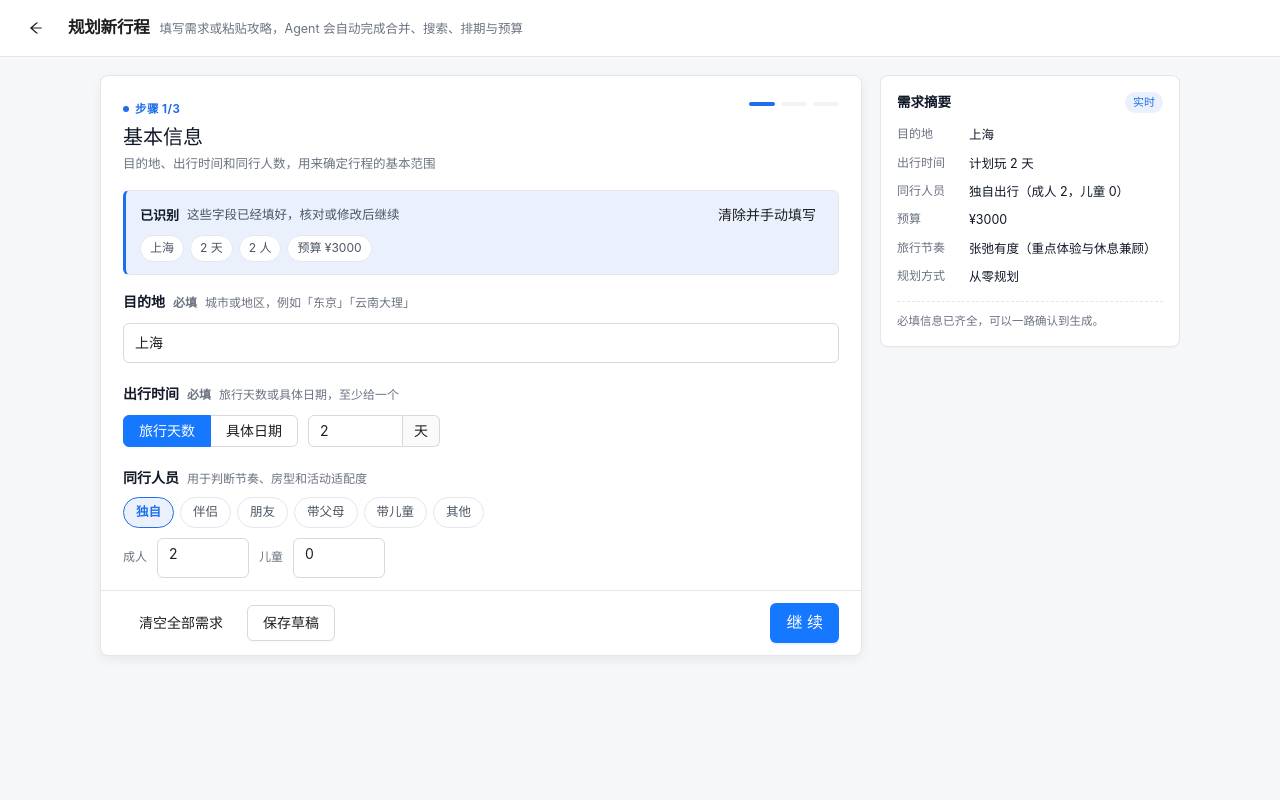
Test: Planner · 三步流程与门禁 › 第 3 步展示结构化摘要
This screenshot has width=1280, height=800.
What coordinates should you click on to do the following:
click the button with test id "planner-next"
I would click on:
 (805, 623)
Its box is [770, 603, 839, 643].
(page scrolled)
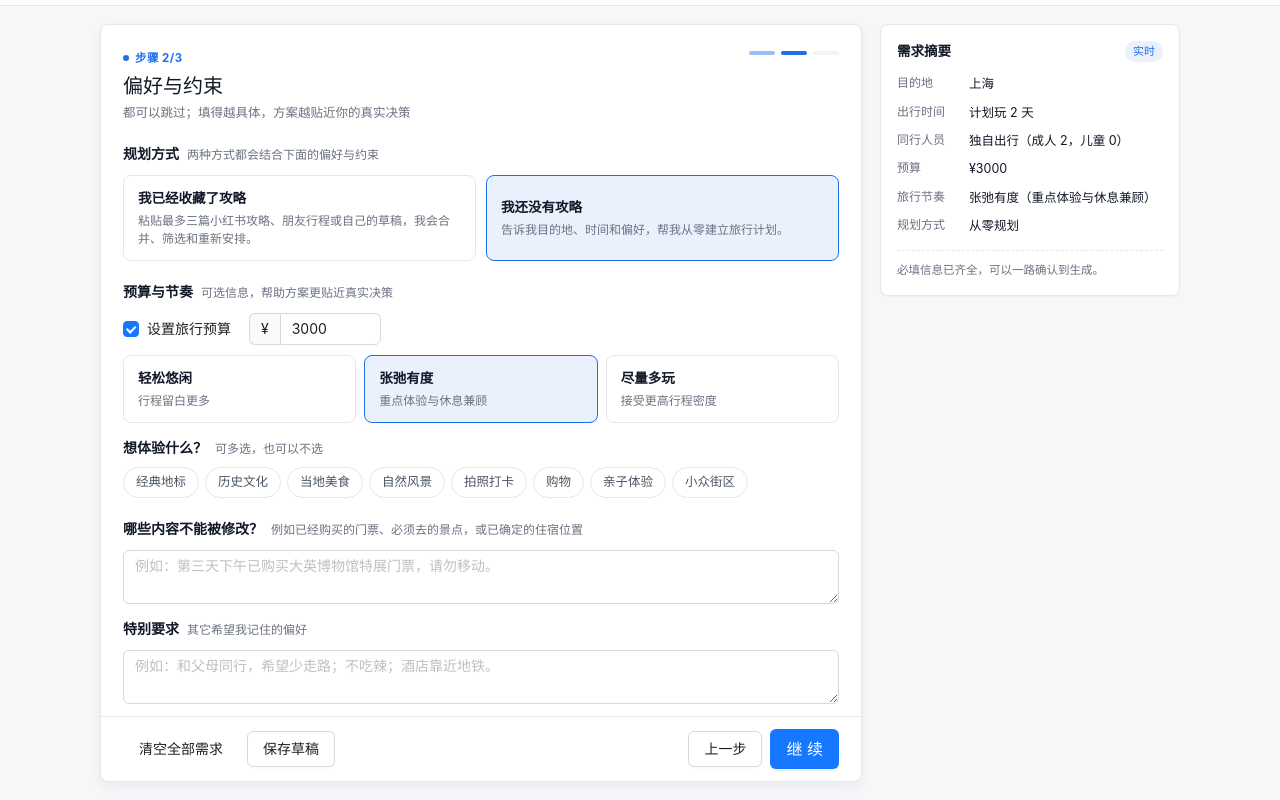
What coordinates should you click on to do the following:
click the button with test id "planner-next"
I would click on:
 (805, 749)
Its box is [770, 729, 839, 769].
(page scrolled)
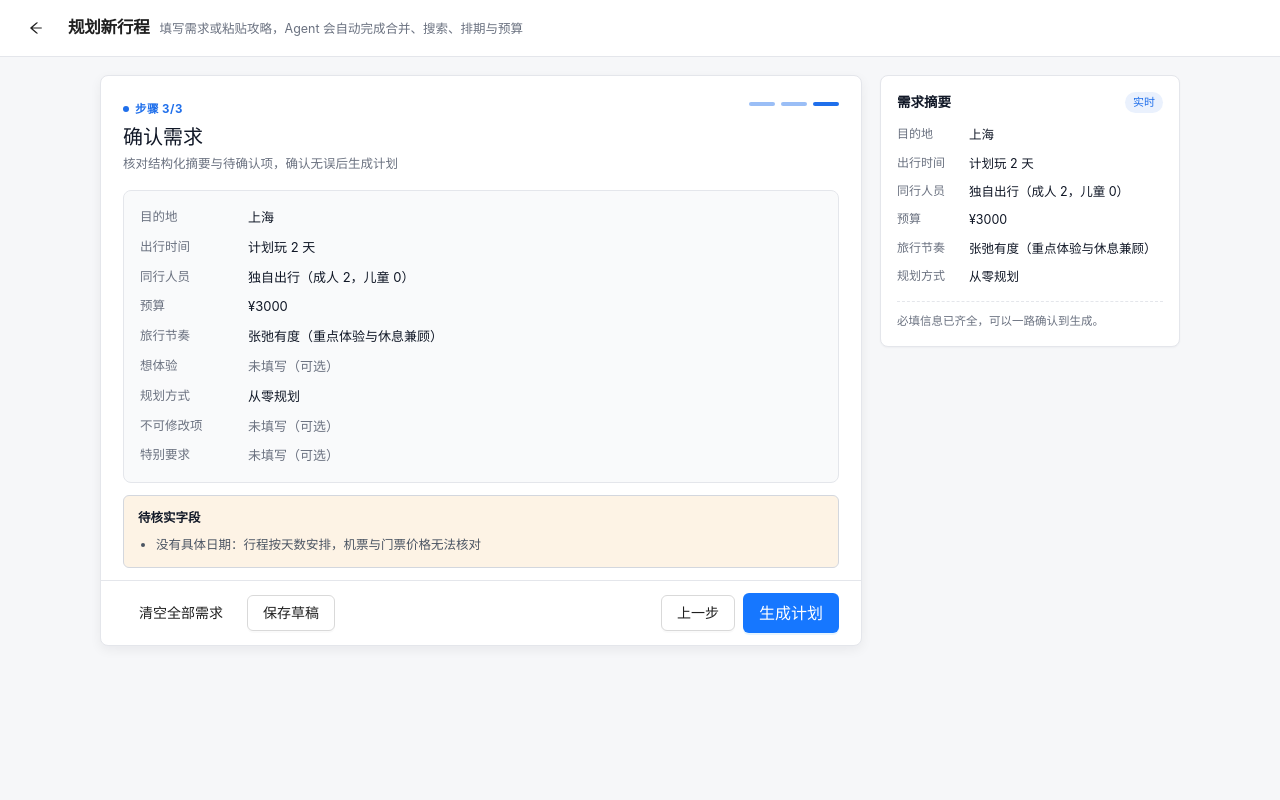
Result: the element with test id "planner-summary" shows "上海" at [248, 209, 274, 225]
Result: the element with test id "planner-summary" shows "计划玩 2 天" at [248, 239, 315, 255]
Result: the element with test id "planner-summary" shows "¥3000" at [248, 298, 288, 314]
